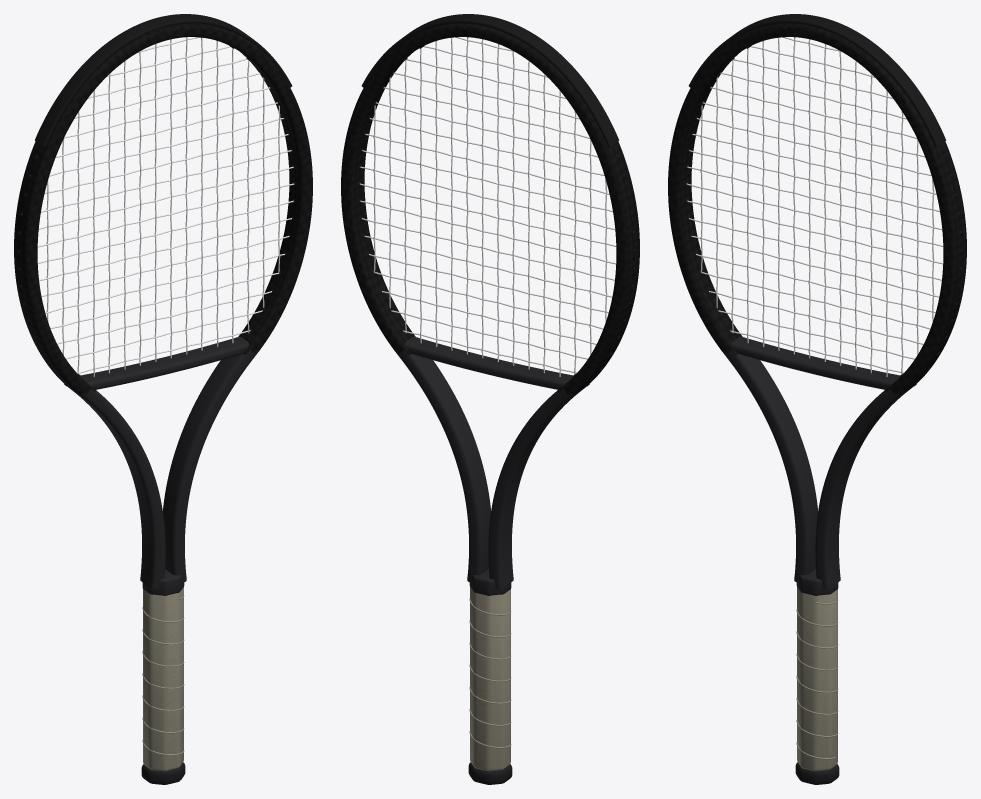
File: studio.glb
3 views of the same model, side by side, from view 1: azimuth 30°, elevation 25°; view 2: azimuth 150°, elevation 25°; view 3: azimuth 330°, elevation 25° (orthographic).
Visible parts, largest first — view 1: Frame, Strings, Handle, Bumper, Yoke, GripSeam, ButtCap, Collar; view 2: Frame, Strings, Handle, Bumper, Yoke, GripSeam, ButtCap, Collar; view 3: Frame, Strings, Handle, Bumper, Yoke, GripSeam, ButtCap, Collar.
Part boxes in pixels (x1,y1,x2,y2): Frame: (14, 23, 312, 588); Strings: (37, 37, 294, 376); Handle: (143, 587, 183, 771); Bumper: (34, 14, 292, 147); Yoke: (80, 336, 248, 389); GripSeam: (142, 595, 184, 755); ButtCap: (141, 762, 185, 784); Collar: (142, 569, 184, 595); Frame: (341, 23, 639, 588); Strings: (359, 37, 616, 376); Handle: (470, 587, 510, 771); Bumper: (361, 14, 619, 147); Yoke: (405, 336, 573, 389); GripSeam: (469, 598, 511, 748); ButtCap: (468, 762, 512, 784); Collar: (469, 569, 511, 595); Frame: (668, 23, 966, 588); Strings: (686, 37, 943, 376); Handle: (797, 587, 837, 771); Bumper: (688, 14, 946, 147); Yoke: (732, 336, 900, 389); GripSeam: (796, 600, 838, 759); ButtCap: (795, 762, 839, 784); Collar: (796, 569, 838, 595).
Size of the model in its own units: 0.2758 by 0.6886 by 0.0327.
6 materials, 2 textured.
